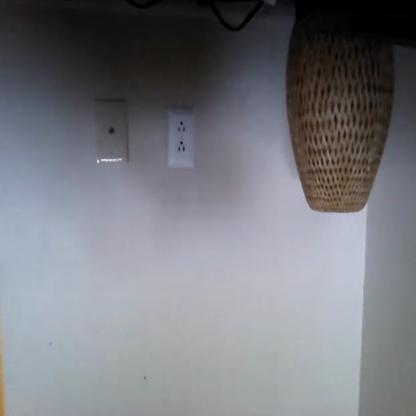OUTLET: (168, 111, 194, 167)
